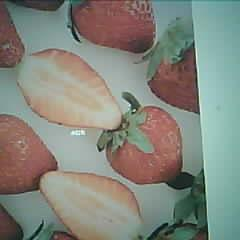straw-ripe: (109, 107, 184, 183), (71, 0, 157, 52)
